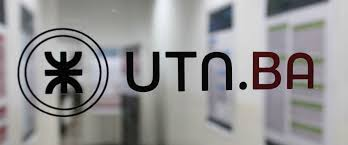utn: (42, 50, 85, 97)
